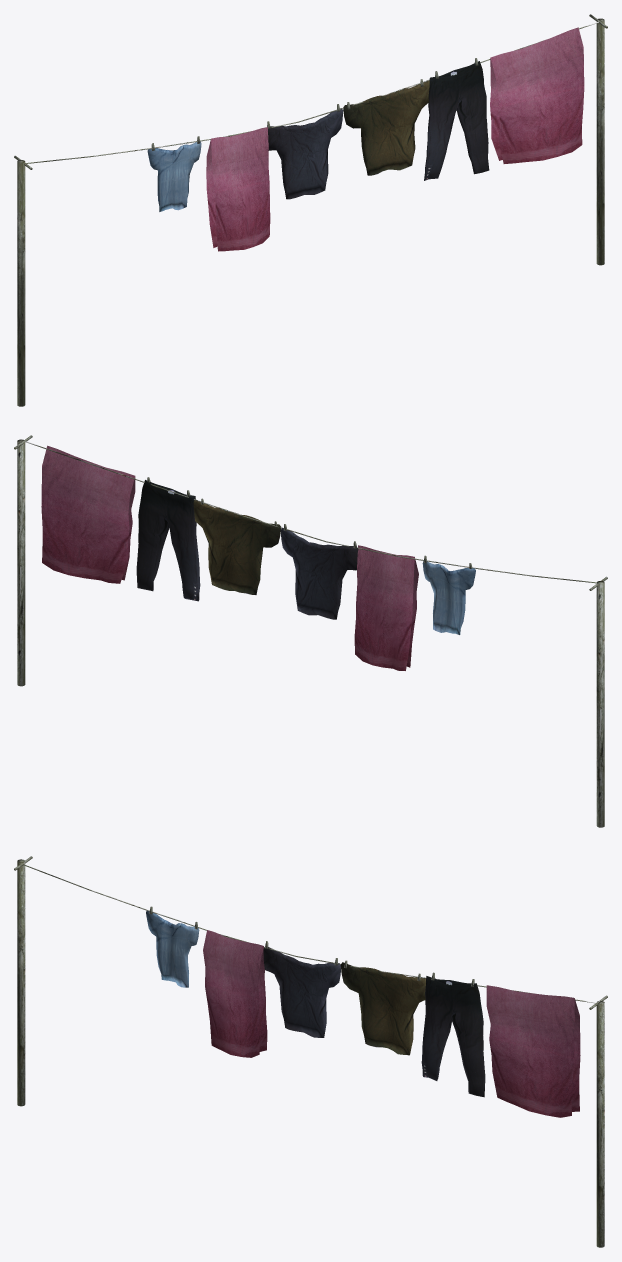
File: clothesline.fbx
3 renders of one model, top to bottom at view 1: azimuth 30°, elevation 25°; view 2: azimuth 150°, elevation 25°; view 3: azimuth 330°, elevation 25°, orthographic.
Parts seen in each view (by area): view 1: clothesline; view 2: clothesline; view 3: clothesline.
Boxes of the visible parts, x1,y1,x2,y2 form: clothesline: (14,14,607,406); clothesline: (14,435,607,827); clothesline: (14,856,607,1247).
Size of the model in its own units: 211 by 83.88 by 10.31.
